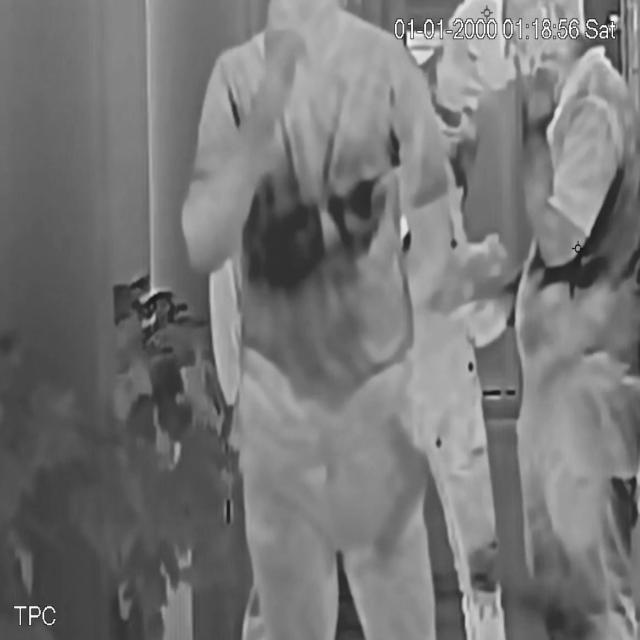Weapon: (362, 410, 439, 570)
